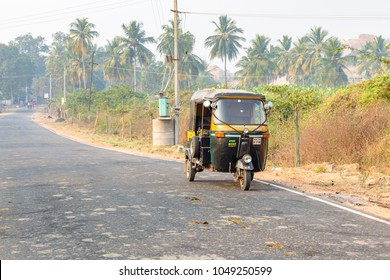threewheel: (182, 87, 272, 191)
